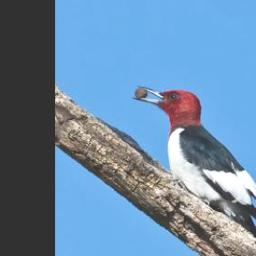Woodpecker: (130, 82, 256, 232)
